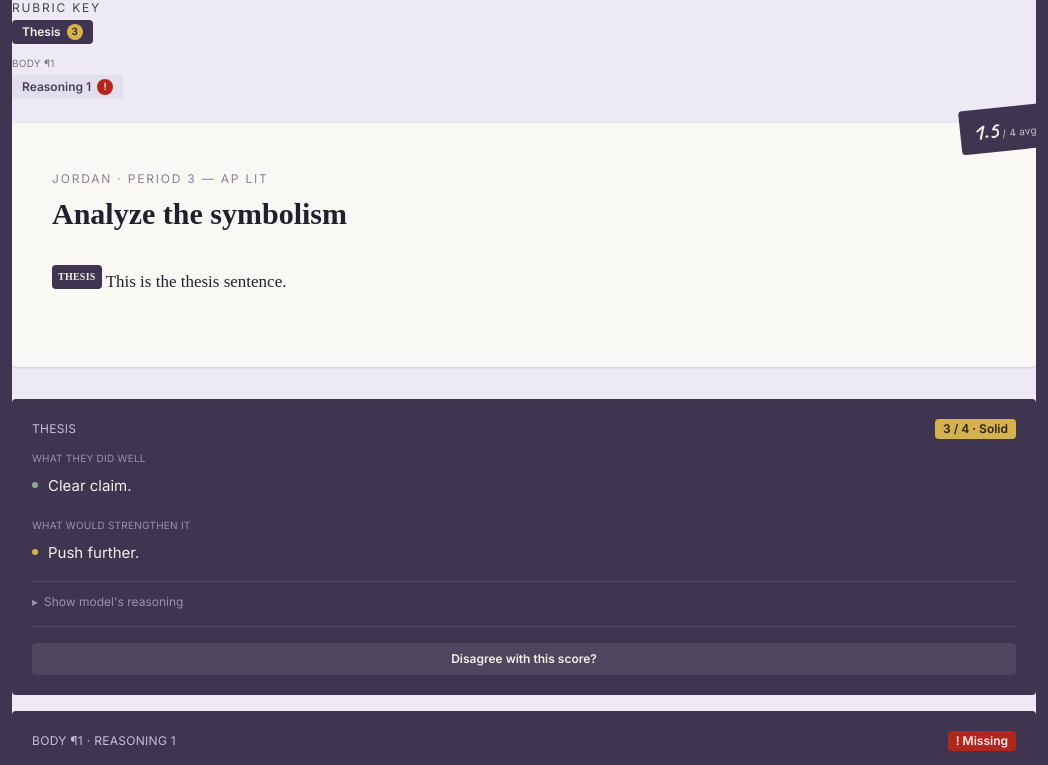
Scenario: GradedView › hard-blocks Finish grading while a dispute is open and unresolved
The image size is (1048, 765).
Click the button "Disagree with this score?" at {"x": 524, "y": 659}, box [32,643,1016,675]
(page scrolled)
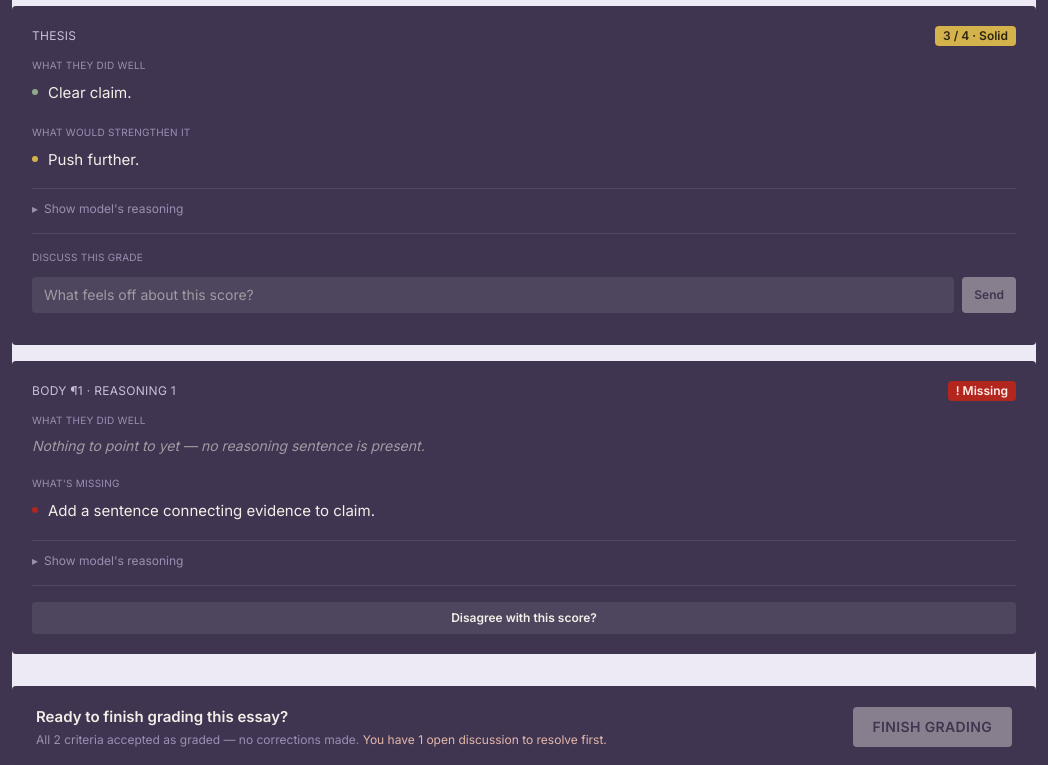
Now the button "Finish grading" is disabled, box [852,707,1012,747]
